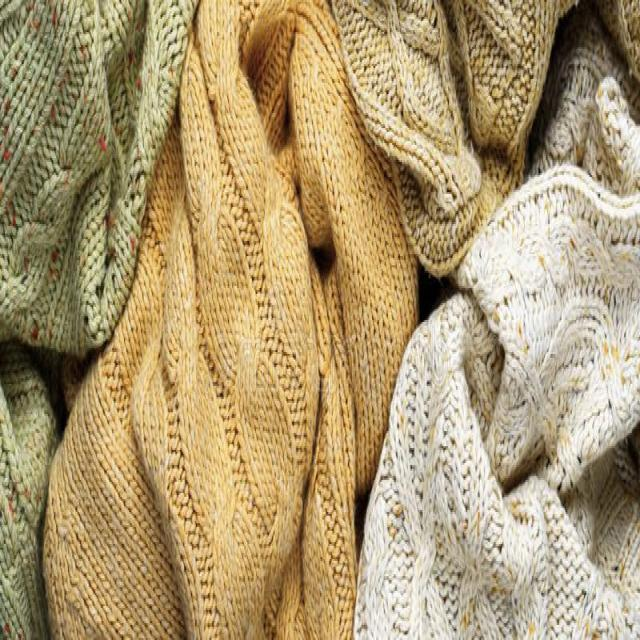clothes: (364, 196, 608, 627)
